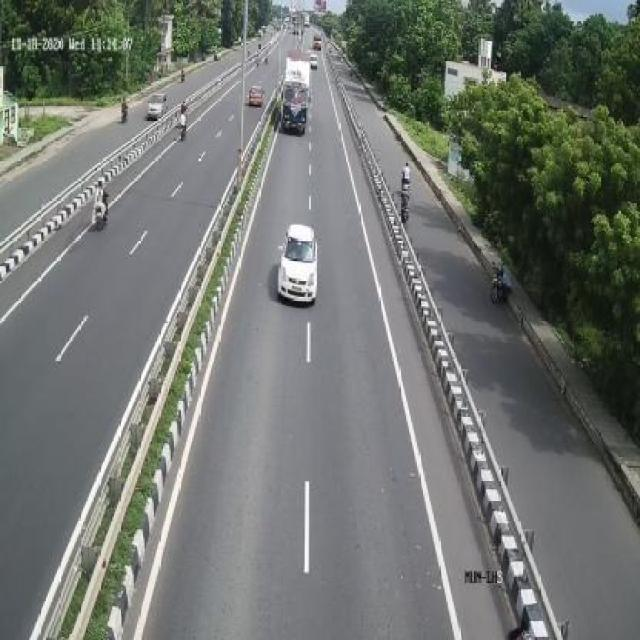car: (280, 218, 320, 308)
